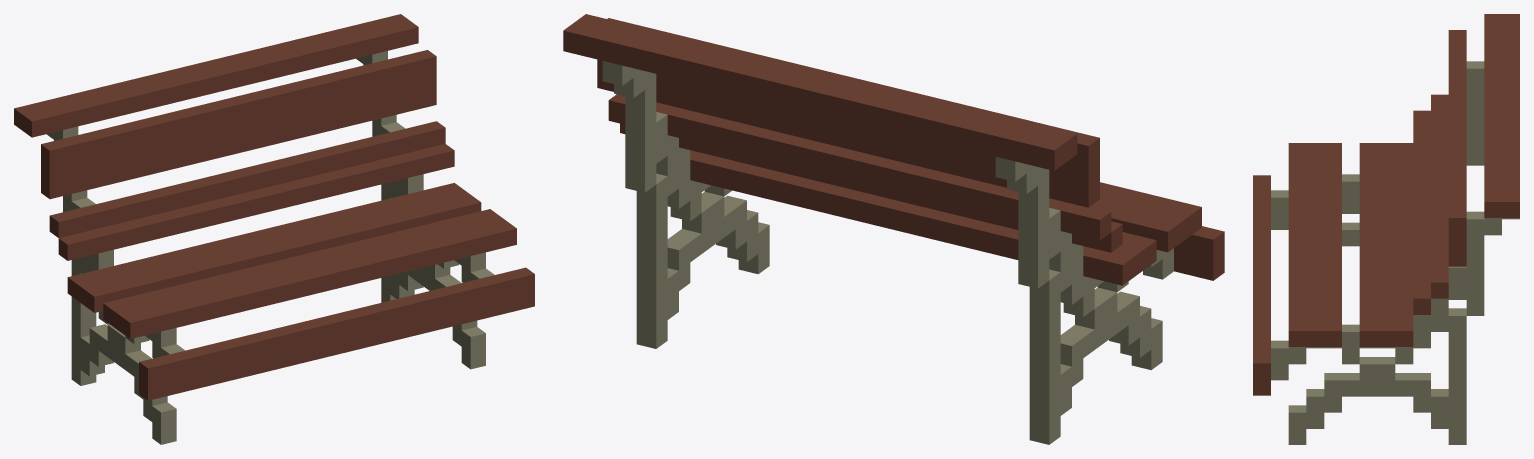
The model's file is victorian-bench.gltf.
The picture shows the model from 3 angles, left to right: view 1: azimuth 30°, elevation 25°; view 2: azimuth 150°, elevation 25°; view 3: azimuth 270°, elevation 25°; orthographic projection. The views are drawn at different scales.
Parts seen in each view (by area): view 1: Node; view 2: Node; view 3: Node.
Part boxes in pixels (x1,y1,x2,y2): Node: (14, 14, 534, 444); Node: (563, 14, 1224, 444); Node: (1253, 14, 1519, 444).
Size of the model in its own units: 2.5 by 1.6 by 1.5.
Materials: 1 (1 with a texture image).
